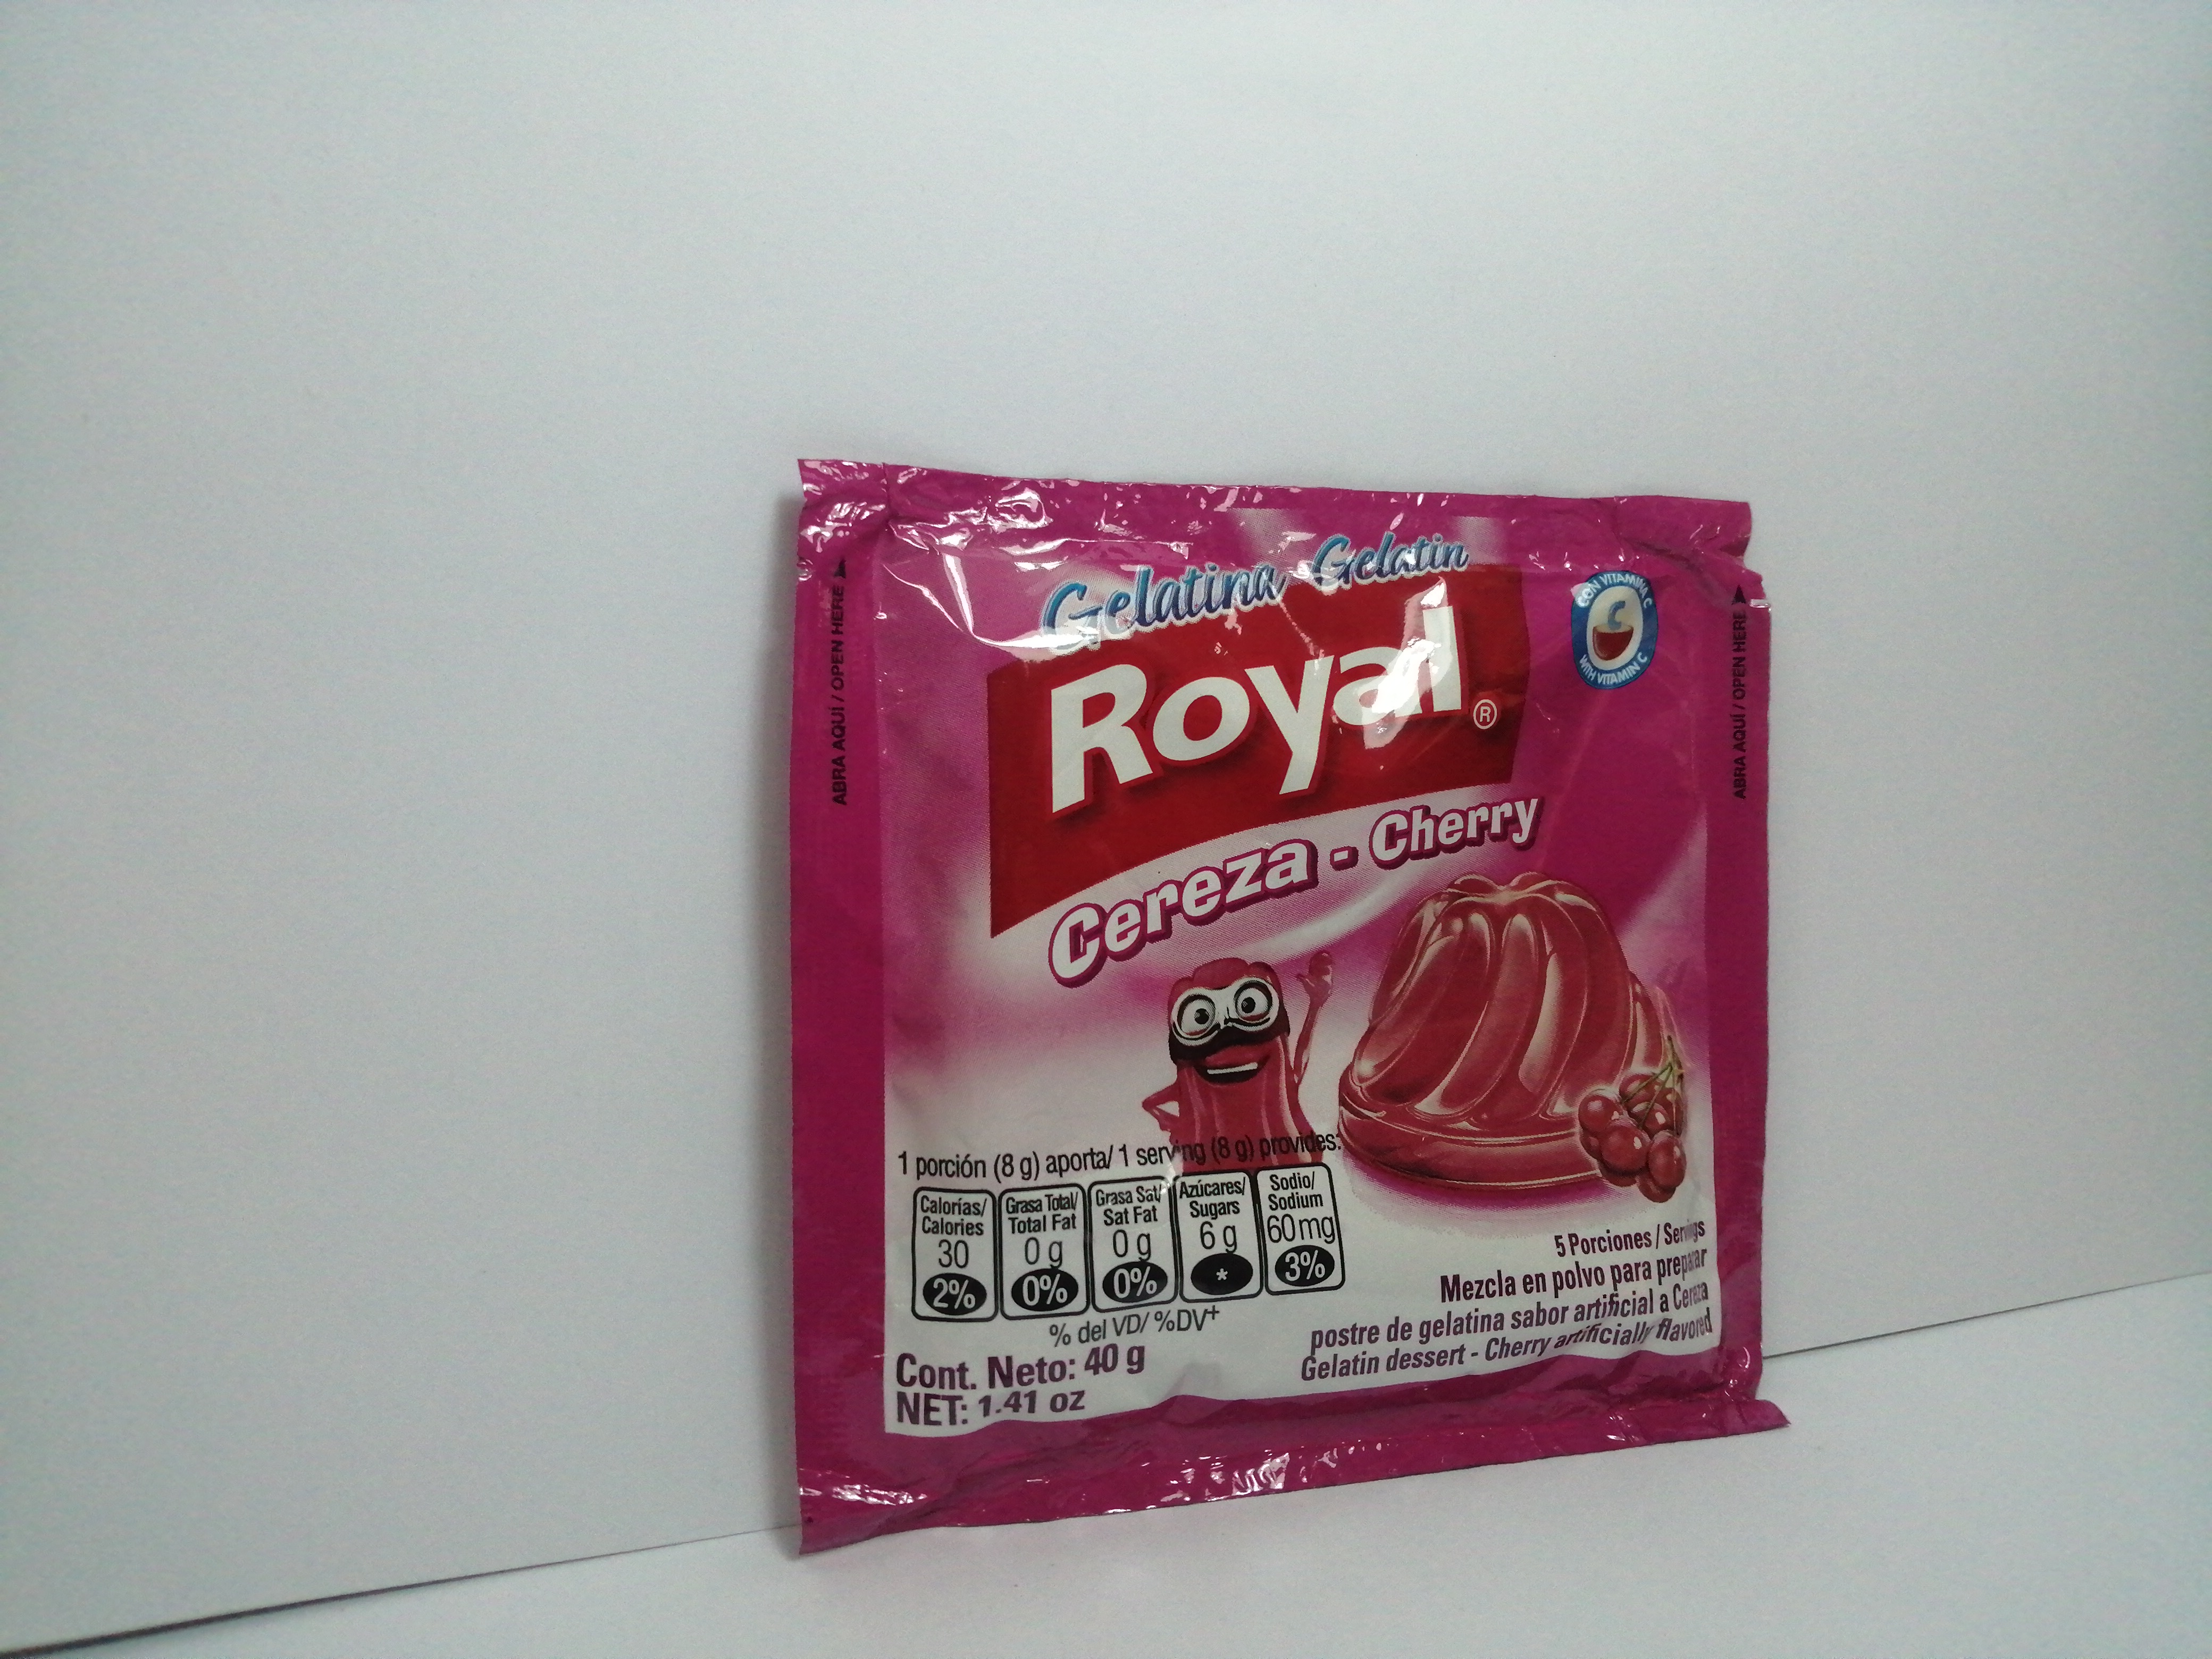gelatina: (780, 451, 1794, 1544)
